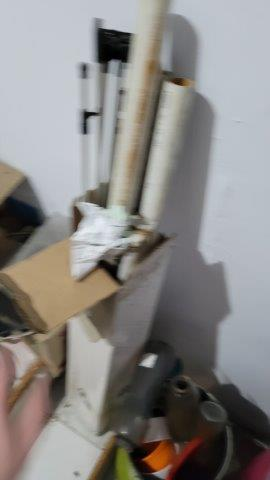kertas: (72, 198, 135, 280)
